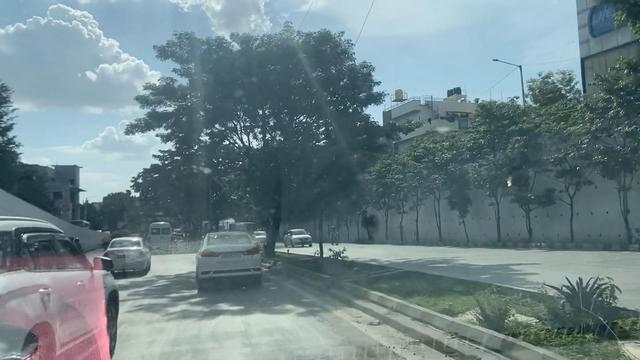LMV: (202, 231, 262, 278), (108, 239, 152, 272)
